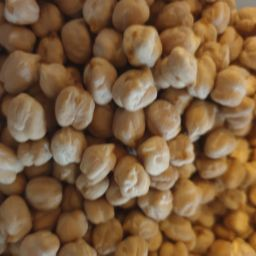White Chickpeas: (4, 5, 256, 256), (10, 154, 227, 236), (14, 89, 111, 224), (141, 113, 226, 254), (87, 16, 171, 125), (178, 14, 249, 136), (8, 11, 71, 119)
